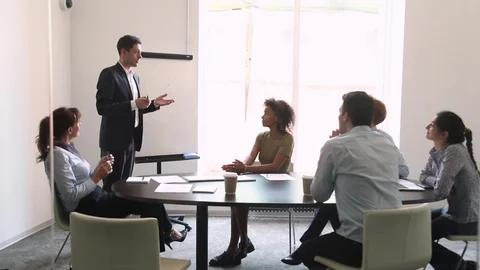jacket: (95, 63, 145, 152)
long sleeve shirt: (309, 125, 400, 244), (419, 143, 480, 222), (44, 143, 97, 215)
short sleeve shirt: (253, 129, 294, 174)
trousers: (75, 185, 173, 243), (428, 206, 480, 270), (299, 231, 366, 270), (99, 138, 137, 188)
